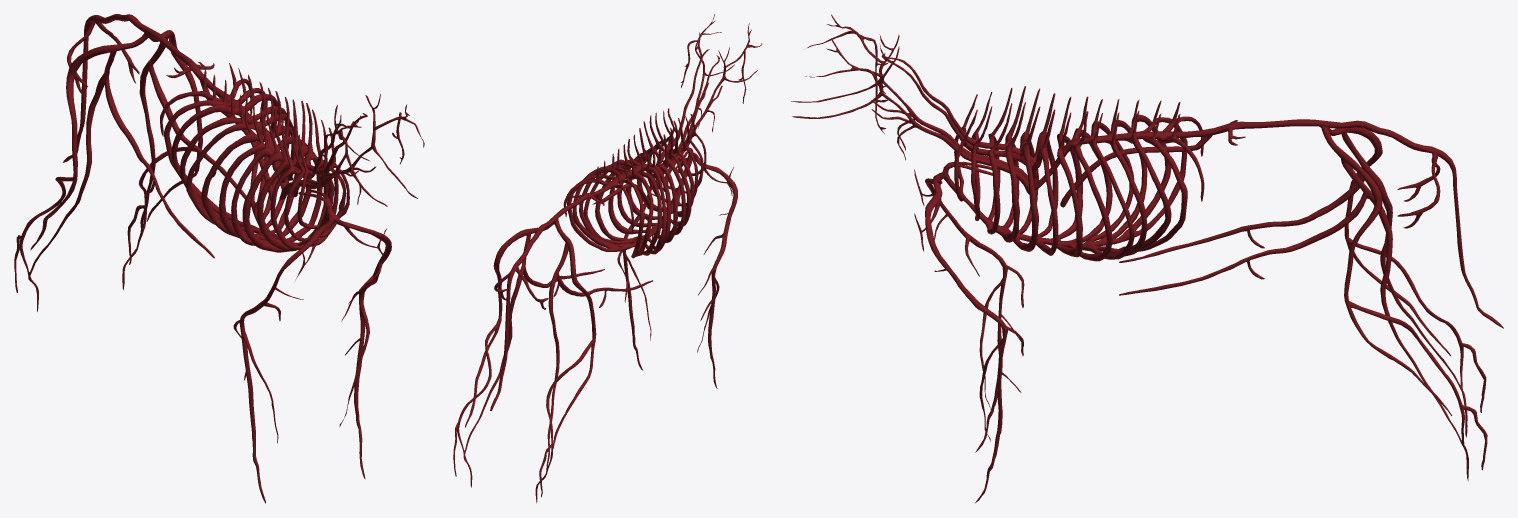
File: final-Red-A.glb
The picture shows the model from 3 angles, left to right: view 1: azimuth 30°, elevation 25°; view 2: azimuth 150°, elevation 25°; view 3: azimuth 270°, elevation 25°; orthographic projection. The views are drawn at different scales.
Parts seen in each view (by area): view 1: red.056, red.011, red.020, red.016, red.008, red.003, red.019, red.026, red.006, red.002, red.023, red.027 (+1 smaller); view 2: red.056, red.011, red.020, red.008, red.012, red.026, red.016, red.006, red.002, red.023, red.018, red.010; view 3: red.056, red.020, red.011, red.019, red.016, red.003, red.027, red.023, red.026, red.008, red.018, red.012 (+1 smaller).
Part boxes in pixels (bbox=[...]): red.056: bbox=[160, 63, 349, 252]; red.011: bbox=[19, 37, 143, 311]; red.020: bbox=[122, 30, 202, 289]; red.016: bbox=[105, 81, 214, 258]; red.008: bbox=[233, 221, 330, 340]; red.003: bbox=[335, 219, 391, 321]; red.019: bbox=[149, 69, 269, 231]; red.026: bbox=[279, 137, 387, 209]; red.006: bbox=[242, 340, 265, 503]; red.002: bbox=[345, 309, 365, 479]; red.023: bbox=[141, 27, 217, 91]; red.027: bbox=[292, 123, 417, 204]; red.056: bbox=[563, 108, 706, 258]; red.011: bbox=[535, 224, 596, 503]; red.020: bbox=[457, 224, 552, 487]; red.008: bbox=[696, 157, 737, 295]; red.012: bbox=[490, 268, 514, 410]; red.026: bbox=[663, 65, 757, 191]; red.016: bbox=[556, 276, 652, 307]; red.006: bbox=[700, 281, 717, 388]; red.002: bbox=[623, 258, 643, 370]; red.023: bbox=[552, 186, 608, 226]; red.018: bbox=[512, 218, 555, 272]; red.010: bbox=[553, 346, 594, 448]; red.056: bbox=[932, 86, 1204, 261]; red.020: bbox=[1323, 131, 1468, 481]; red.011: bbox=[1330, 127, 1467, 437]; red.019: bbox=[1119, 196, 1366, 295]; red.016: bbox=[1119, 175, 1364, 262]; red.003: bbox=[925, 182, 1023, 356]; red.027: bbox=[792, 73, 1029, 194]; red.023: bbox=[1182, 119, 1330, 138]; red.026: bbox=[791, 60, 1028, 181]; red.008: bbox=[925, 178, 1024, 307]; red.018: bbox=[1330, 120, 1442, 158]; red.012: bbox=[1442, 151, 1503, 328].
Bounding box in the file's own units: 0.5496 × 1.62 × 2.31.
